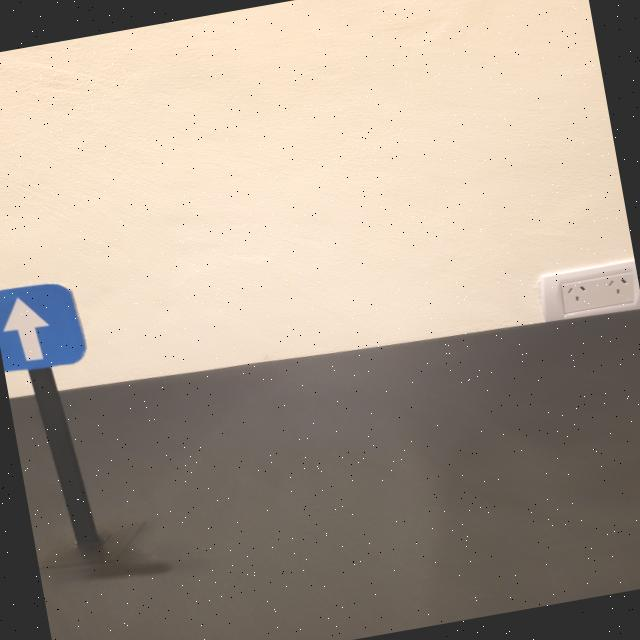one_way: (0, 275, 89, 376)
